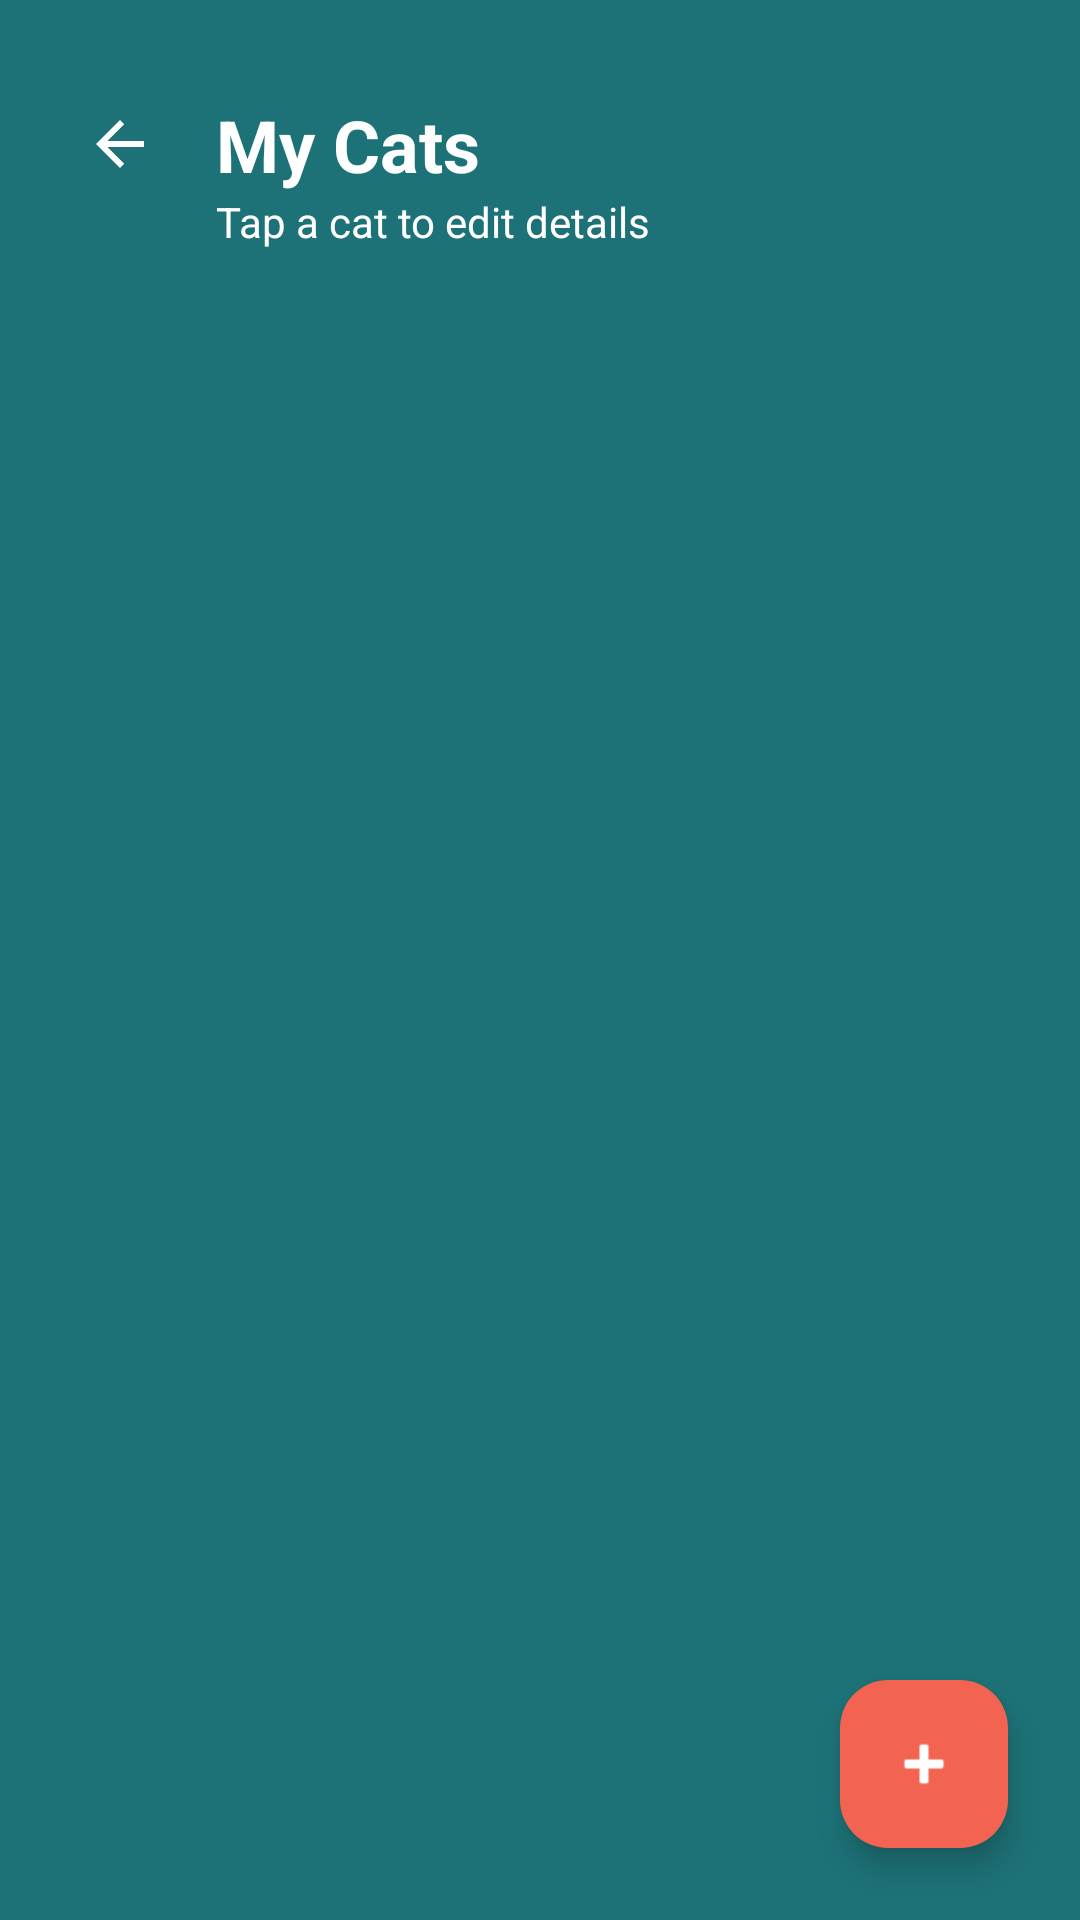

Icons on this 1080×1920 Android screen, each with its box as (x1, y1, x2, y2):
ab back: (96, 120, 144, 168)
add: (840, 1680, 1008, 1848)
